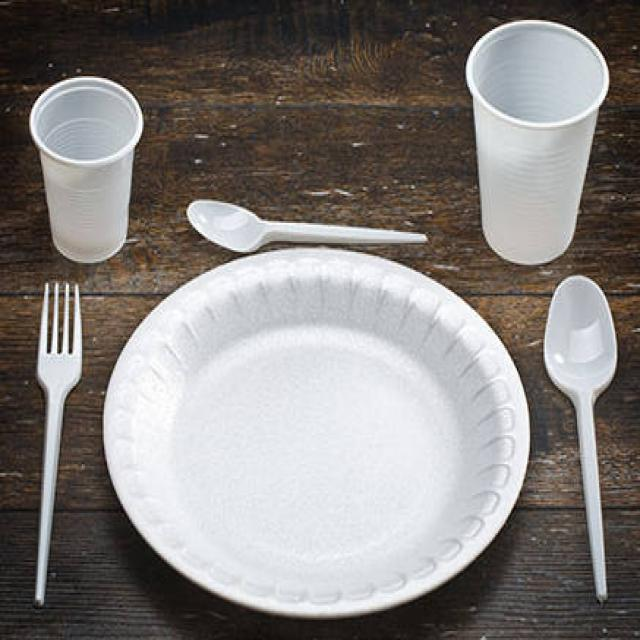non-organic waste: (107, 219, 555, 640)
